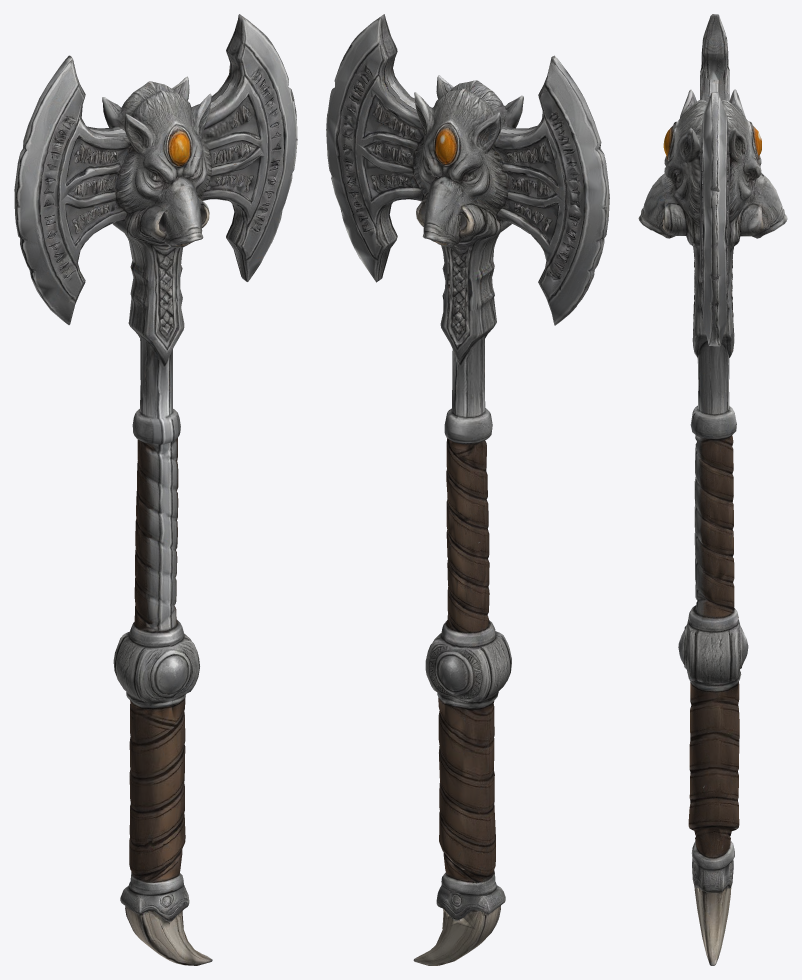
Rendered from rune-axe.glb.
3 views of the same model, side by side, from view 1: azimuth 30°, elevation 25°; view 2: azimuth 150°, elevation 25°; view 3: azimuth 270°, elevation 25° (orthographic). The views are drawn at different scales.
Size of the model in its own units: 0.5986 by 1.9 by 0.2891.
Materials: 1 (1 with a texture image).
